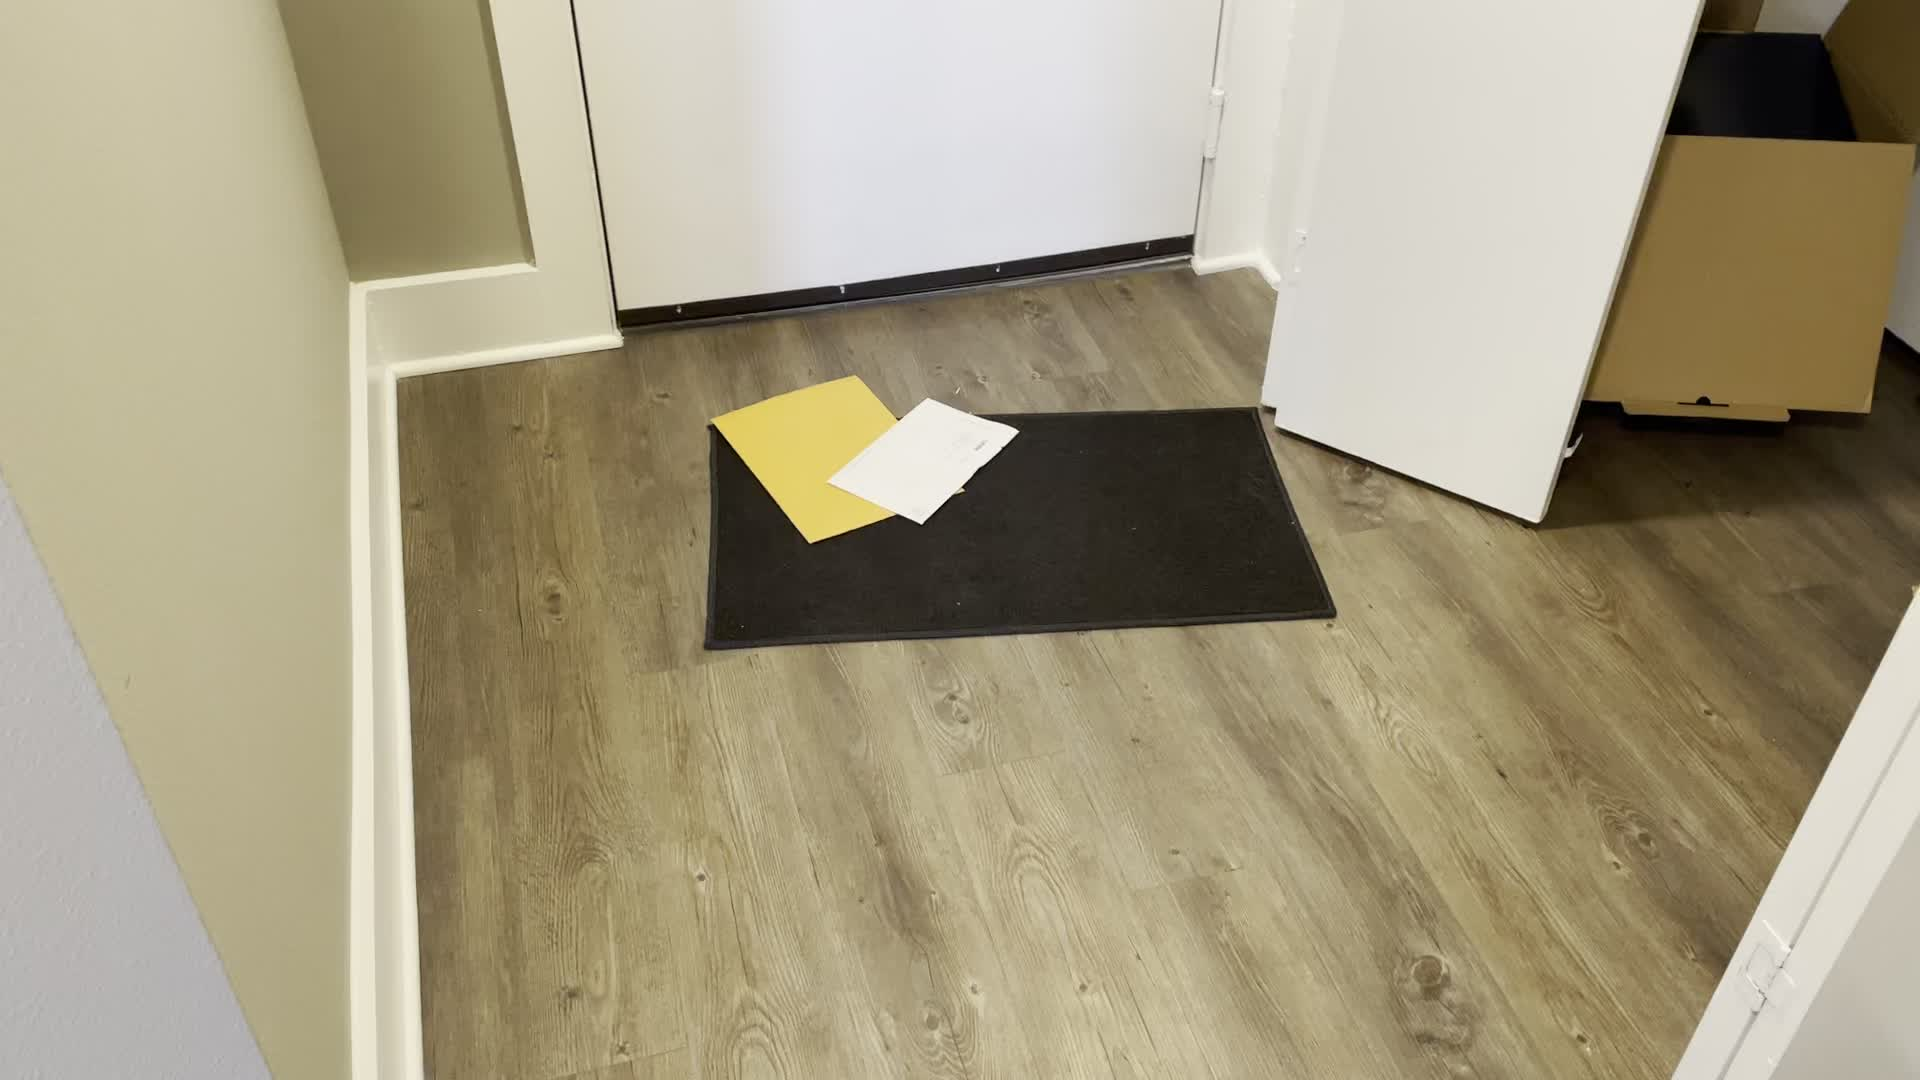envelope: (713, 369, 909, 550), (829, 397, 1019, 535)
